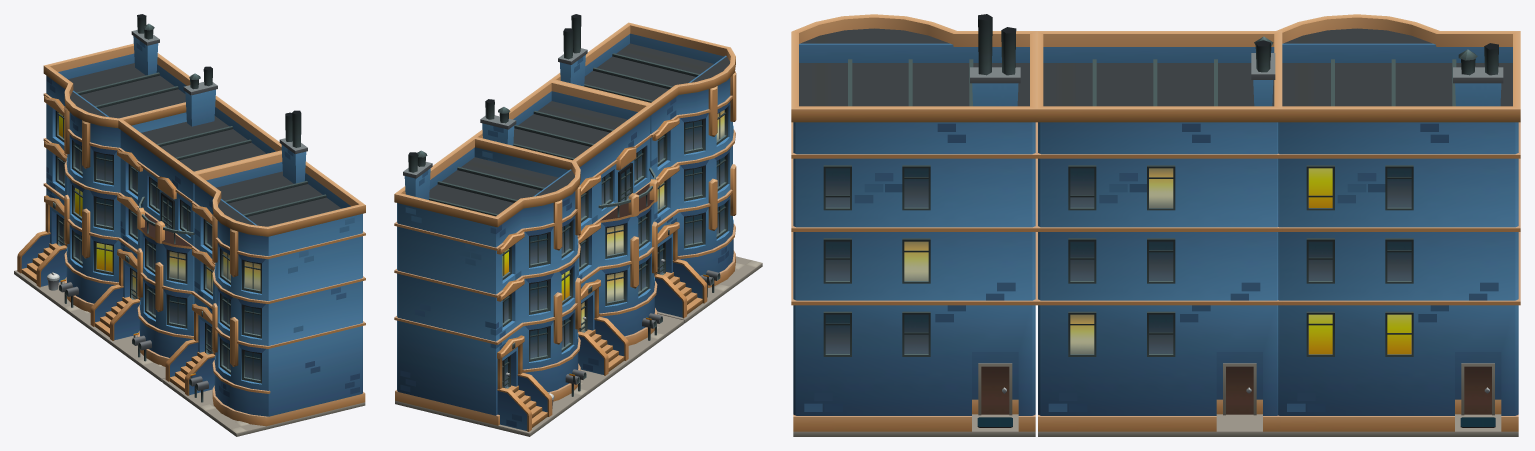
Rendered from Building_4A.fbx.
The picture shows the model from 3 angles, left to right: view 1: azimuth 30°, elevation 25°; view 2: azimuth 150°, elevation 25°; view 3: azimuth 270°, elevation 25°; orthographic projection. The views are drawn at different scales.
Parts seen in each view (by area): view 1: Building_4A.005, Building_4B, Building_4C, Window_Lights_4A, Window_Lights_4B, Window_Lights_4C; view 2: Building_4B, Building_4A.005, Building_4C, Window_Lights_4C, Window_Lights_4A, Window_Lights_4B; view 3: Building_4A.005, Building_4B, Building_4C, Window_Lights_4B, Window_Lights_4C, Window_Lights_4A.
Part boxes in pixels (<box>): Building_4A.005: <box>162,110,365,436</box>; Building_4B: <box>14,14,190,327</box>; Building_4C: <box>87,66,281,381</box>; Window_Lights_4A: <box>206,251,260,292</box>; Window_Lights_4B: <box>59,113,112,271</box>; Window_Lights_4C: <box>132,251,185,299</box>; Building_4B: <box>394,138,607,436</box>; Building_4A.005: <box>549,14,762,323</box>; Building_4C: <box>471,80,684,379</box>; Window_Lights_4C: <box>581,225,623,332</box>; Window_Lights_4A: <box>657,110,724,209</box>; Window_Lights_4B: <box>502,249,569,300</box>; Building_4A.005: <box>791,14,1037,436</box>; Building_4B: <box>1274,14,1520,436</box>; Building_4C: <box>1036,31,1282,436</box>; Window_Lights_4B: <box>1308,168,1411,354</box>; Window_Lights_4C: <box>1070,168,1173,354</box>; Window_Lights_4A: <box>904,241,928,280</box>.
Bounding box in the file's own units: 367 × 686 × 1101.
